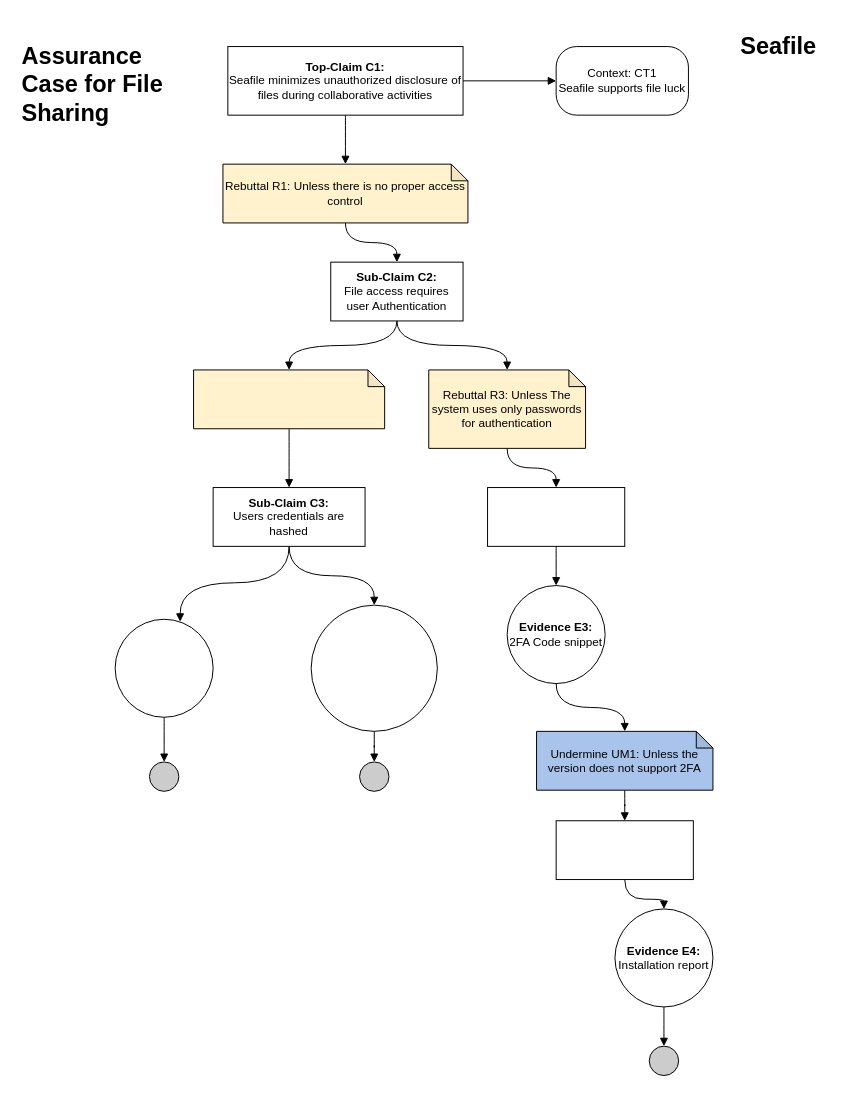
This 847x1093 diagram has some shape labels left out. Each missing label, with the centre of its shape:
"Evidence E1 : Seafile Penetration test report" goes at point (163, 667).
"Evidence E2: Seafile Documentation on AES-256 with PBKDF2 hash function" goes at point (373, 667).
"Rebuttal R2: Unless The user's credentials are stored in plain text." goes at point (289, 399).
"Sub-Claim C4: Seafile uses 2FA for file sharing" goes at point (556, 516).
"Sub-Claim C5: Latest Seafile version supports 2FA" goes at point (624, 850).
